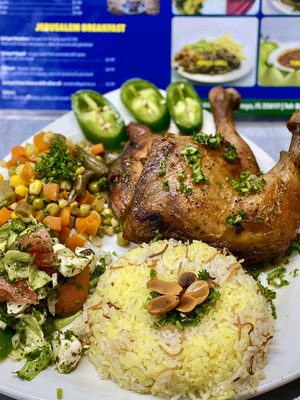curry: (32, 133, 109, 194), (33, 135, 85, 185)
sushi: (171, 15, 260, 85)
